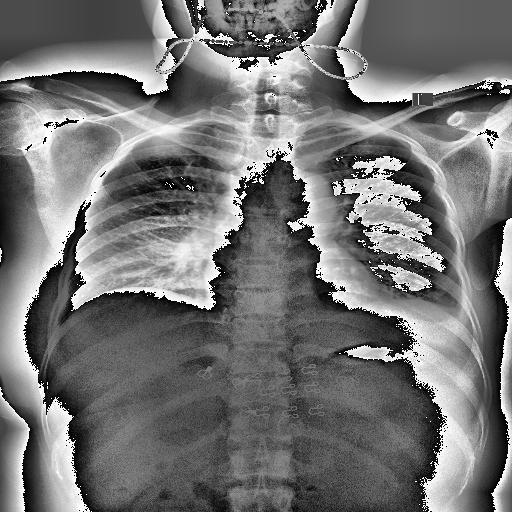0- Aortic enlargement: (262, 170, 335, 237), (279, 170, 338, 230), (268, 170, 336, 220)
10- Pleural effusion: (430, 284, 470, 334), (447, 296, 471, 326)
11- Pleural thickening: (430, 284, 470, 334)
7- Lung Opacity: (102, 229, 192, 287)
9- Other lesion: (102, 229, 192, 287)
